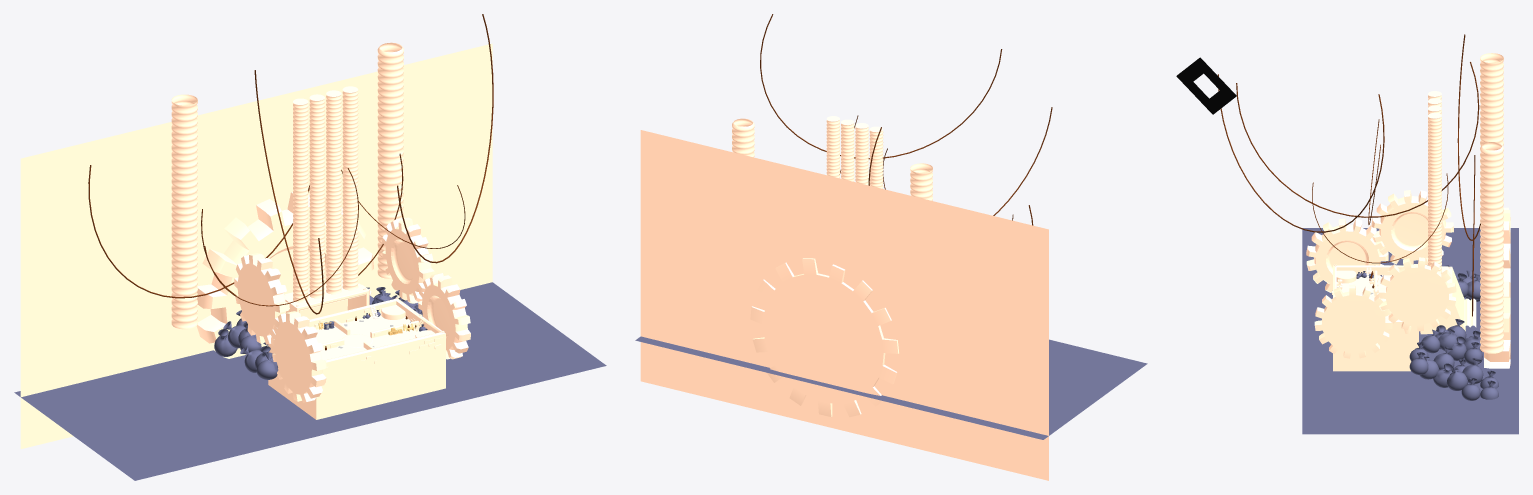
3 renders of one model, left to right at view 1: azimuth 30°, elevation 25°; view 2: azimuth 150°, elevation 25°; view 3: azimuth 270°, elevation 25°, orthographic. The views are drawn at different scales.
Visible parts, largest first — view 1: _newProps:pPlane15, _newProps:pPlane14, pCube1, _newProps:pCylinder84, _newProps:pCylinder83, _newProps:pCylinder82, _newProps:pCylinder85, pCylinder85, _newProps:pCylinder78, _newProps:pCylinder79, _newProps:pCylinder81, _newProps:pCylinder80 (+5 smaller); view 2: _newProps:pPlane15, _newProps:pCylinder84, _newProps:pPlane14, _newProps:pCylinder80, _newProps:pCylinder79, _newProps:pCylinder78, _newProps:pCylinder81, _newProps:pCylinder82, _newProps:pCylinder83, pTorus7; view 3: _newProps:pPlane14, _newProps:pCylinder82, pCylinder87, pCylinder86, pCylinder85, pCube1, _newProps:pCylinder85, _newProps:pCylinder78, _newProps:pCylinder83, _newProps:pCylinder84, pPlane7, pCube6 (+3 smaller).
Part boxes in pixels (x1,y1,x2,y2): _newProps:pPlane15: (20,43,492,448); _newProps:pPlane14: (14,282,606,480); pCube1: (268,298,445,419); _newProps:pCylinder84: (196,192,373,358); _newProps:pCylinder83: (171,94,197,329); _newProps:pCylinder82: (377,42,403,278); _newProps:pCylinder85: (271,311,326,402); pCylinder85: (234,253,289,344); _newProps:pCylinder78: (342,86,358,290); _newProps:pCylinder79: (326,90,341,294); _newProps:pCylinder81: (293,98,308,302); _newProps:pCylinder80: (309,94,324,298); _newProps:pPlane15: (640,130,1048,480); _newProps:pCylinder84: (750,258,898,417); _newProps:pPlane14: (635,336,1147,439); _newProps:pCylinder80: (855,123,868,185); _newProps:pCylinder79: (841,119,854,181); _newProps:pCylinder78: (826,116,839,178); _newProps:pCylinder81: (869,126,883,188); _newProps:pCylinder82: (732,118,754,157); _newProps:pCylinder83: (910,163,932,200); pTorus7: (760,14,1002,159); _newProps:pPlane14: (1302,228,1518,434); _newProps:pCylinder82: (1480,142,1503,353); pCylinder87: (1378,257,1456,331); pCylinder86: (1314,284,1392,358); pCylinder85: (1371,190,1453,264); pCube1: (1333,265,1418,371); _newProps:pCylinder85: (1306,218,1388,292); _newProps:pCylinder78: (1428,112,1441,272); _newProps:pCylinder83: (1480,53,1503,145); _newProps:pCylinder84: (1484,207,1510,368); pPlane7: (1176,57,1236,114); pCube6: (1420,266,1465,334).
Size of the model in its own units: 143 by 113 by 100.
